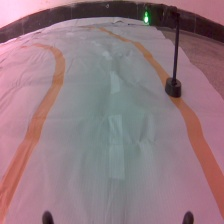green: (141, 4, 184, 99)
